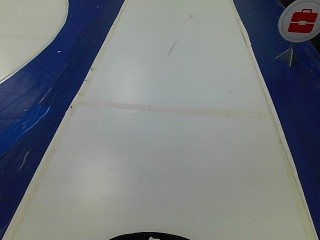company: (269, 0, 318, 44)
